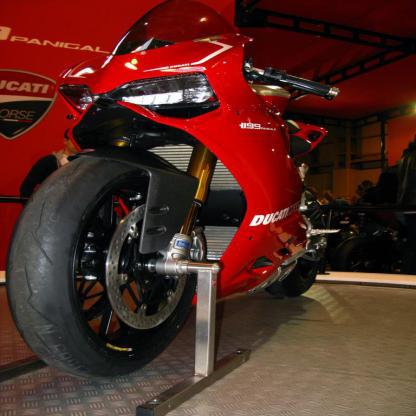motorcycle: (26, 1, 340, 390)
